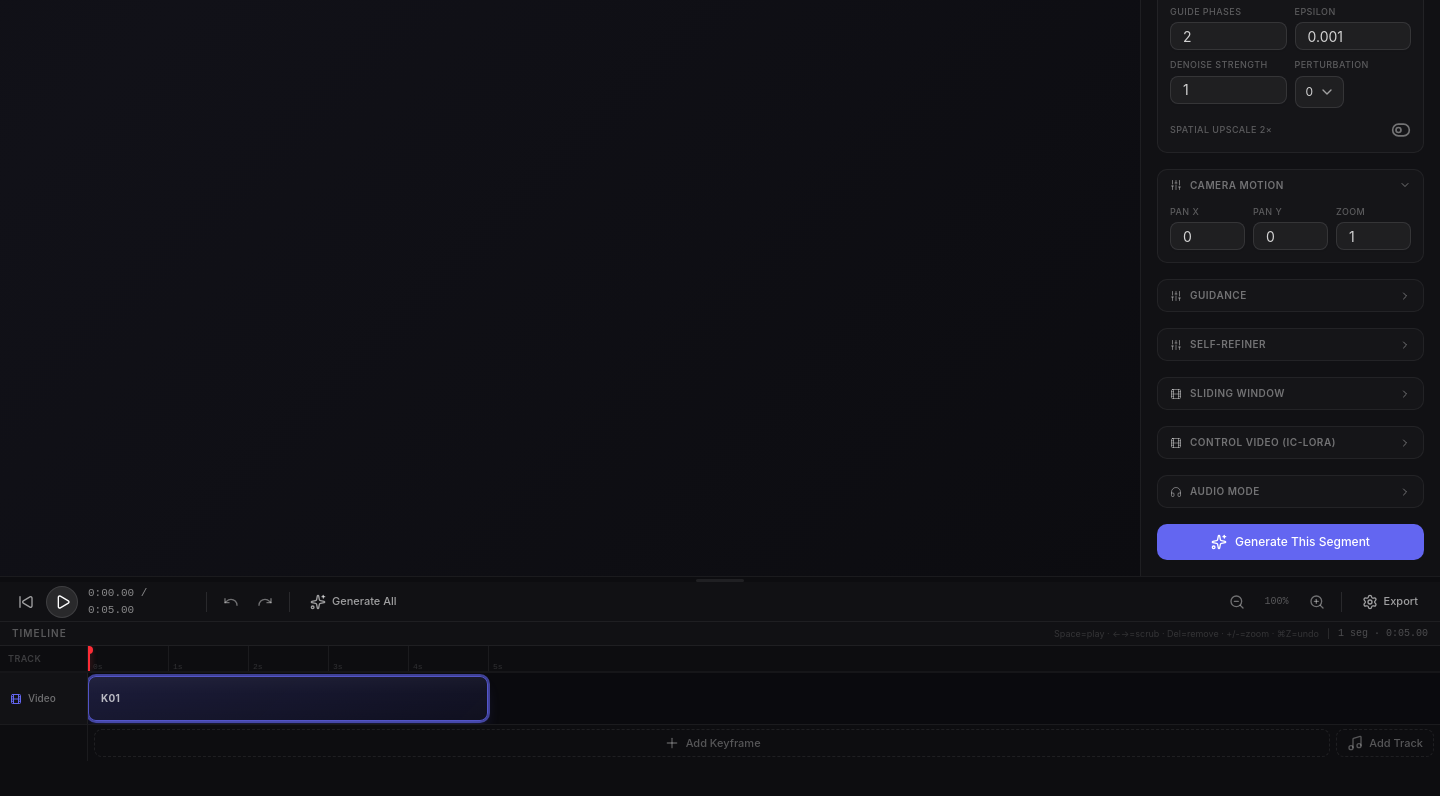
Test case: VideoEditor — zoom › zoom in increases pixels per second
(page scrolled)
Click the button with class "lucide-zoom-in": (1317, 602) [1303, 588, 1331, 616]
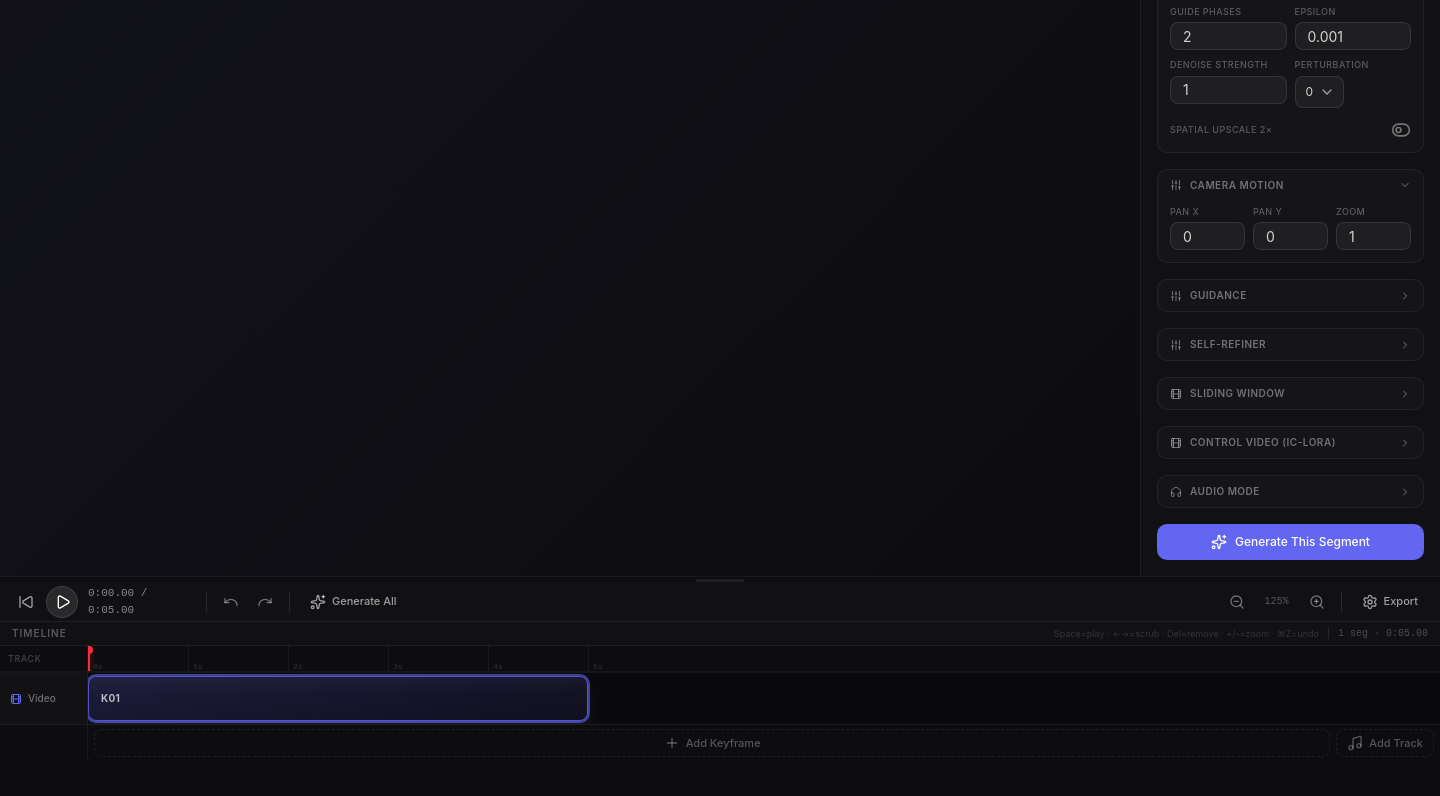
Check: the text "125%" is shown, box [1265, 596, 1289, 607]
